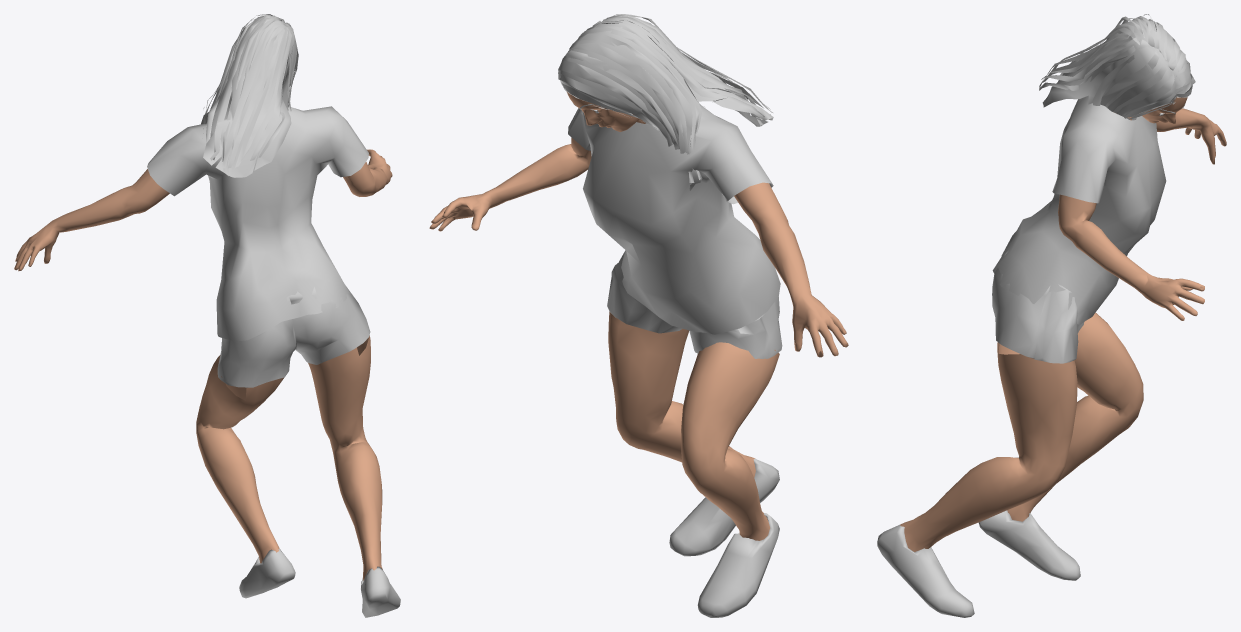
Rendered from player2att_000019.obj.
The picture shows the model from 3 angles, left to right: view 1: azimuth 30°, elevation 25°; view 2: azimuth 150°, elevation 25°; view 3: azimuth 270°, elevation 25°; orthographic projection. The views are drawn at different scales.
Parts seen in each view (by area): view 1: player2:tshirt02, player2:Body, player2:fhair01, player2:short01, player2:shoes02; view 2: player2:Body, player2:tshirt02, player2:fhair01, player2:shoes02, player2:short01; view 3: player2:Body, player2:tshirt02, player2:fhair01, player2:shoes02, player2:short01.
Boxes of the visible parts, <box> form: player2:tshirt02: <box>147,106,368,341</box>; player2:Body: <box>14,149,392,580</box>; player2:fhair01: <box>201,14,298,177</box>; player2:short01: <box>217,285,370,387</box>; player2:shoes02: <box>239,549,400,617</box>; player2:Body: <box>429,91,848,540</box>; player2:tshirt02: <box>568,105,780,334</box>; player2:fhair01: <box>558,14,773,190</box>; player2:shoes02: <box>669,459,779,617</box>; player2:short01: <box>607,250,782,358</box>; player2:Body: <box>900,97,1226,551</box>; player2:tshirt02: <box>992,95,1166,325</box>; player2:fhair01: <box>1039,14,1195,120</box>; player2:shoes02: <box>877,510,1080,617</box>; player2:short01: <box>992,242,1084,363</box>.
Bounding box in the file's own units: 10.78 × 15.1 × 8.21.
